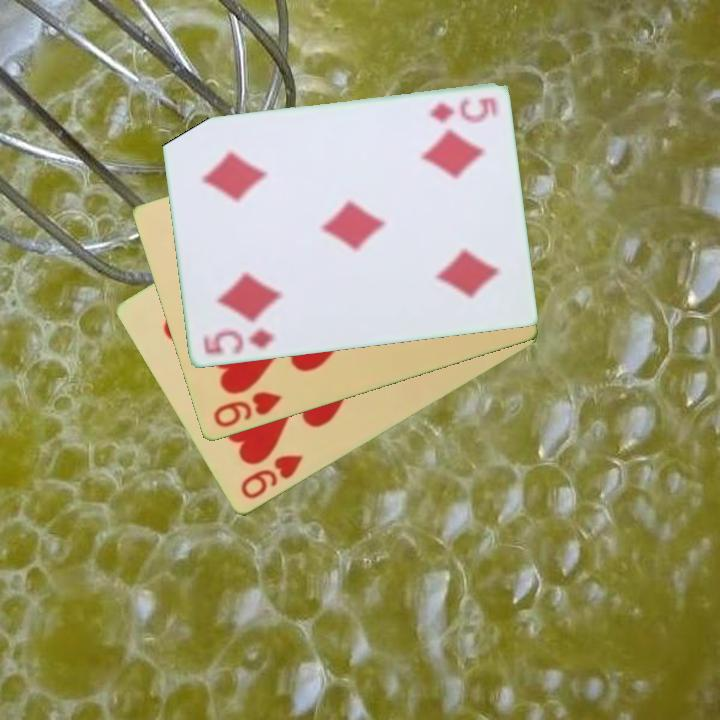5d: (199, 326, 276, 358), (426, 94, 499, 127)
9h: (237, 451, 306, 503), (209, 388, 286, 431)
